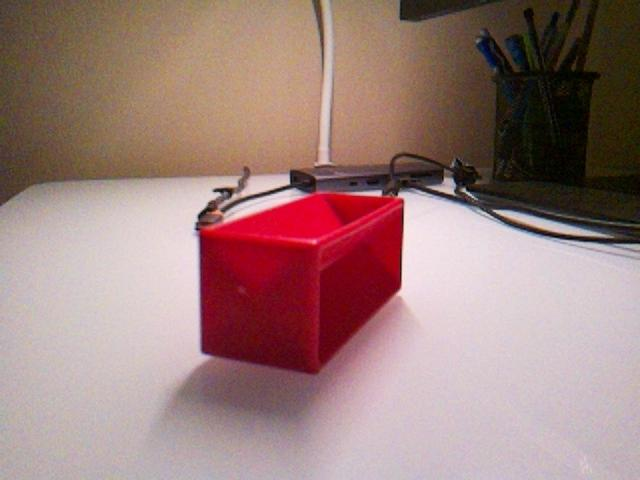red: (197, 191, 406, 375)
